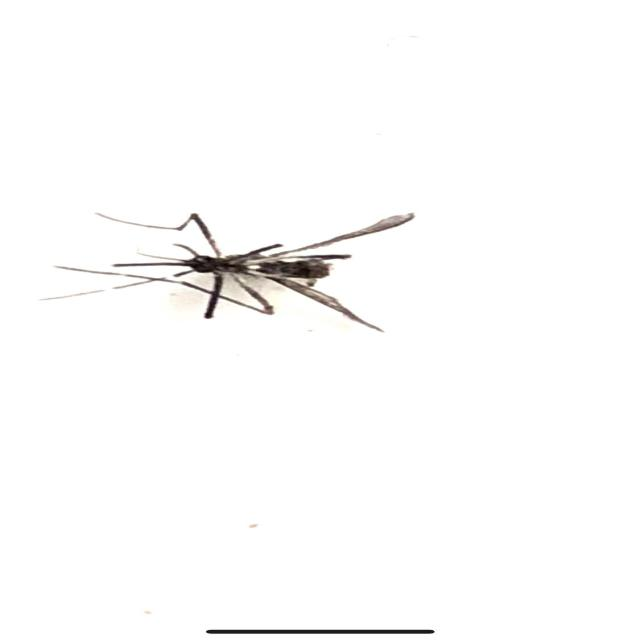albopictus: (49, 196, 414, 332)
